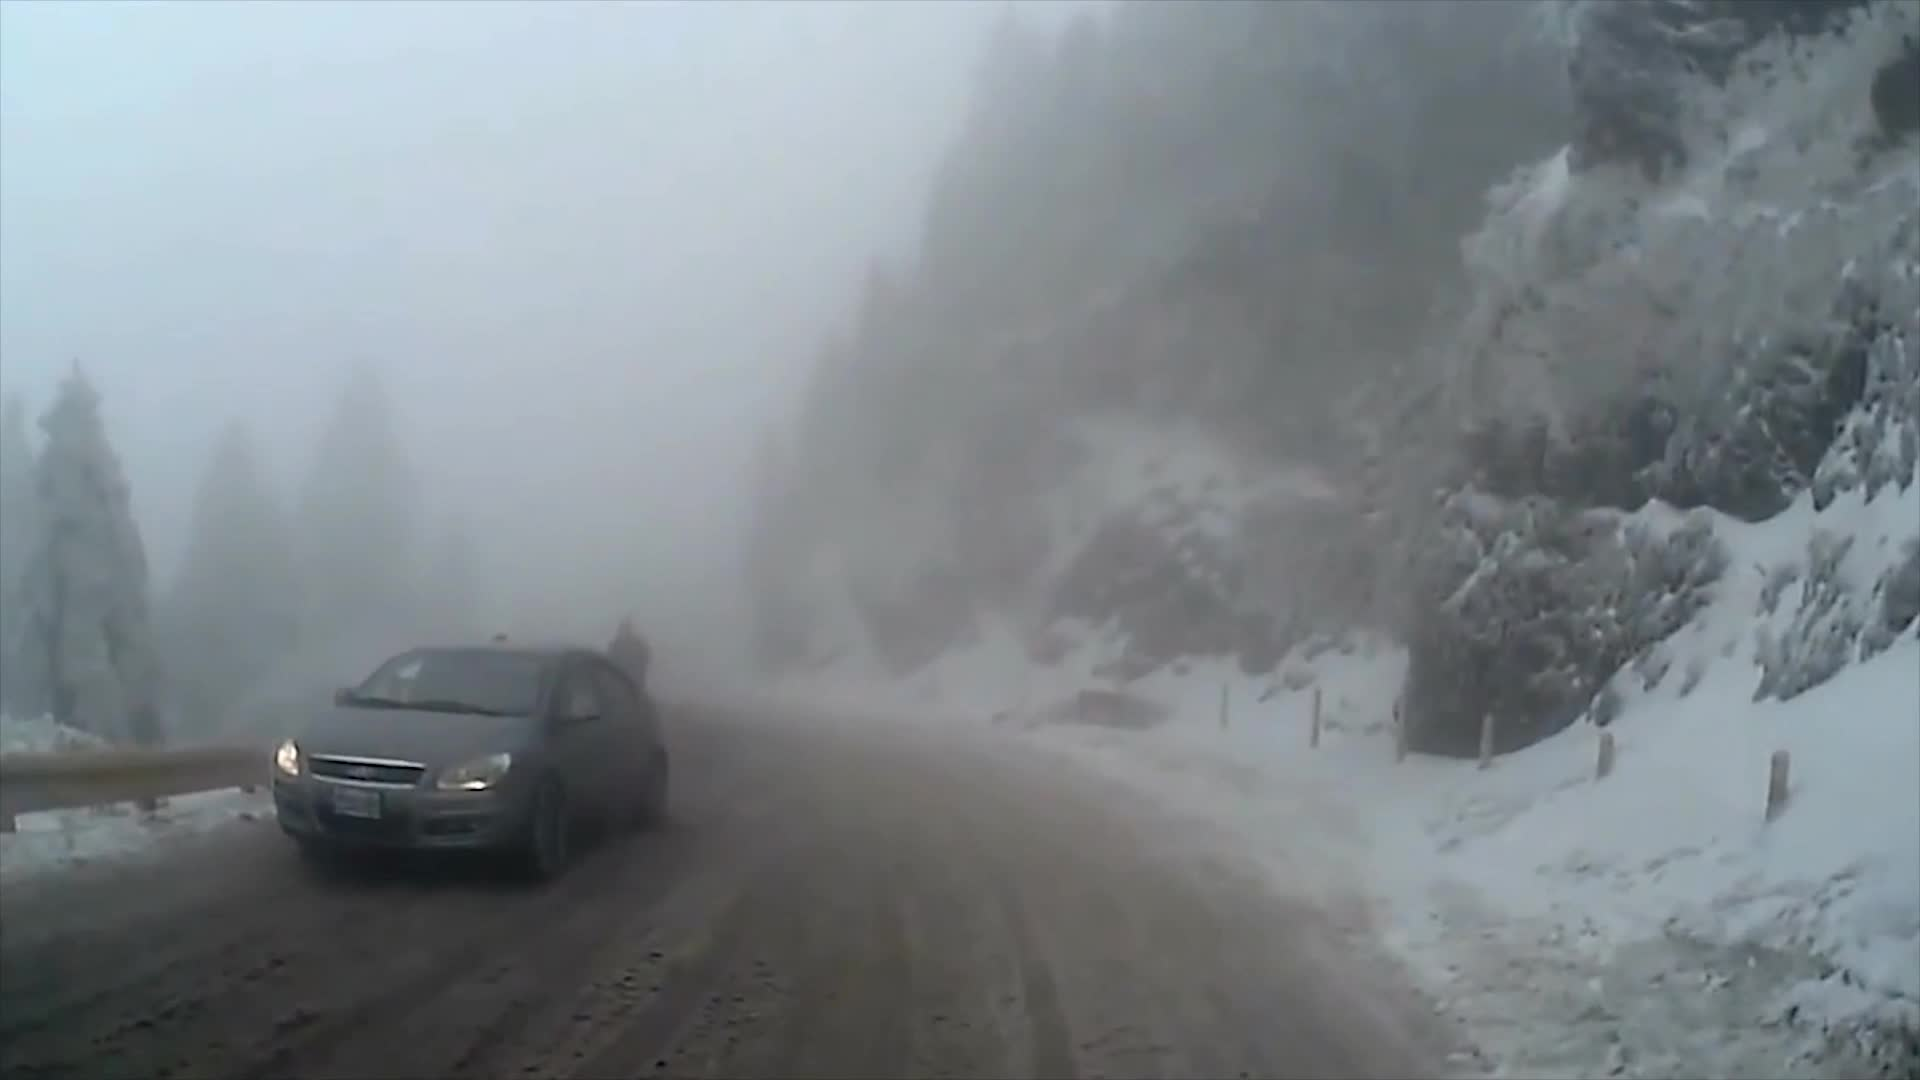vehicle: (268, 637, 670, 881)
